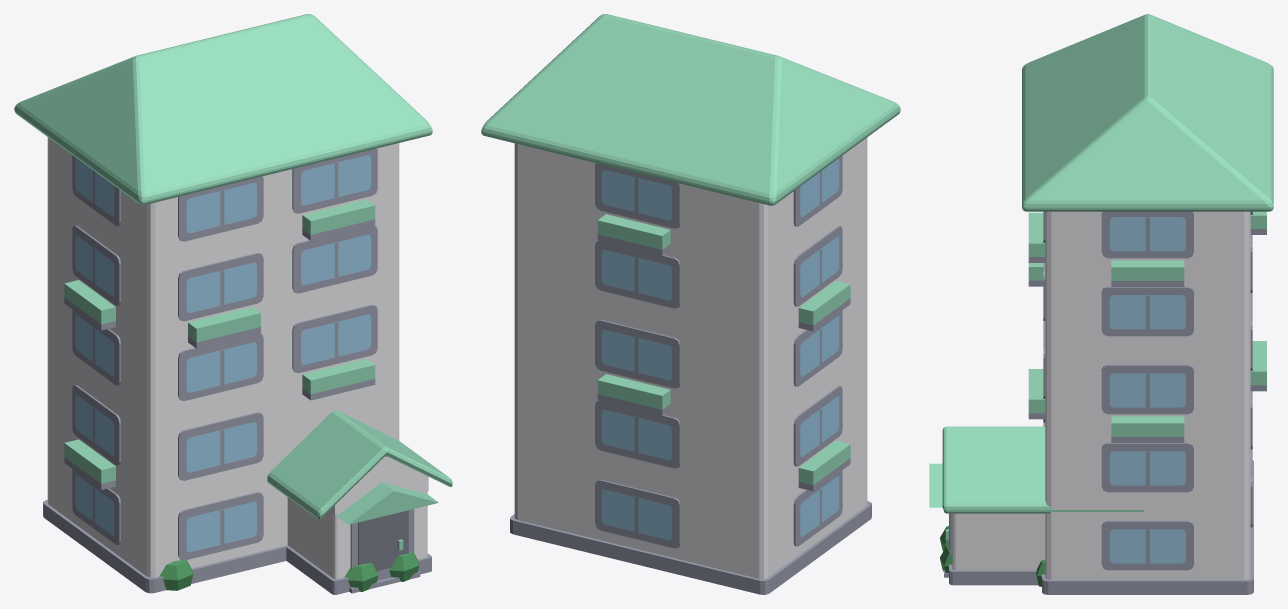
Rendered from house-1x1-5f-mansard-a.glb.
3 views of the same model, side by side, from view 1: azimuth 30°, elevation 25°; view 2: azimuth 150°, elevation 25°; view 3: azimuth 270°, elevation 25° (orthographic). The views are drawn at different scales.
Parts seen in each view (by area): view 1: house-1x1-5f-mansard-a; view 2: house-1x1-5f-mansard-a; view 3: house-1x1-5f-mansard-a.
Part boxes in pixels (<box>): house-1x1-5f-mansard-a: <box>14,14,452,594</box>; house-1x1-5f-mansard-a: <box>481,14,900,594</box>; house-1x1-5f-mansard-a: <box>929,14,1273,594</box>.
Bounding box in the file's own units: 1 × 1.59 × 1.04.
1 material, 1 textured.
